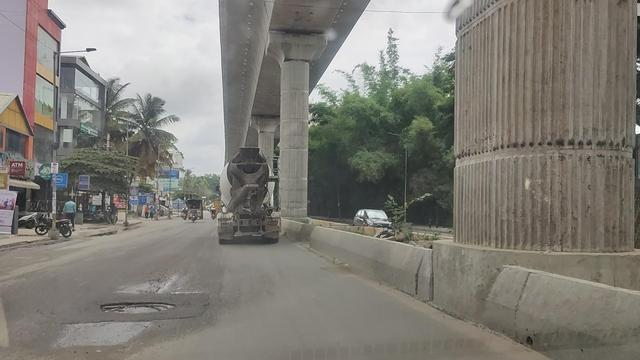HMV: (217, 148, 280, 243)
RoadDamages: (62, 320, 162, 349), (99, 294, 179, 316), (129, 272, 189, 292)
